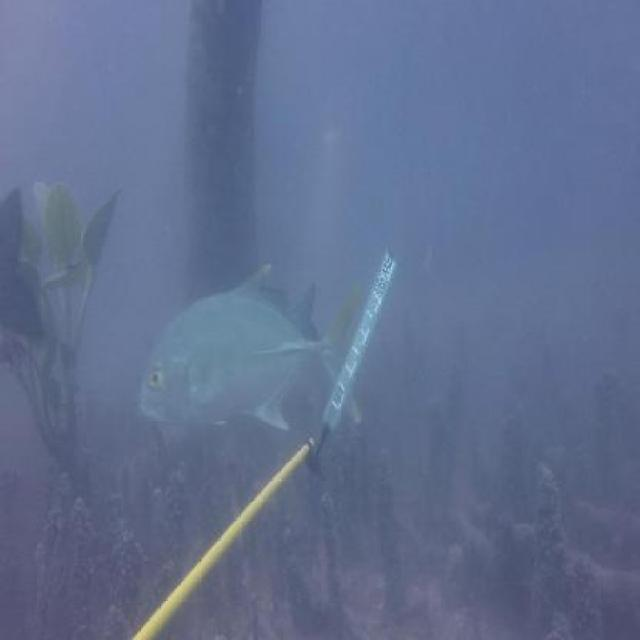Caranx: (133, 259, 362, 447)
acanthopagrus_palmaris: (0, 172, 42, 346), (254, 272, 320, 341)
